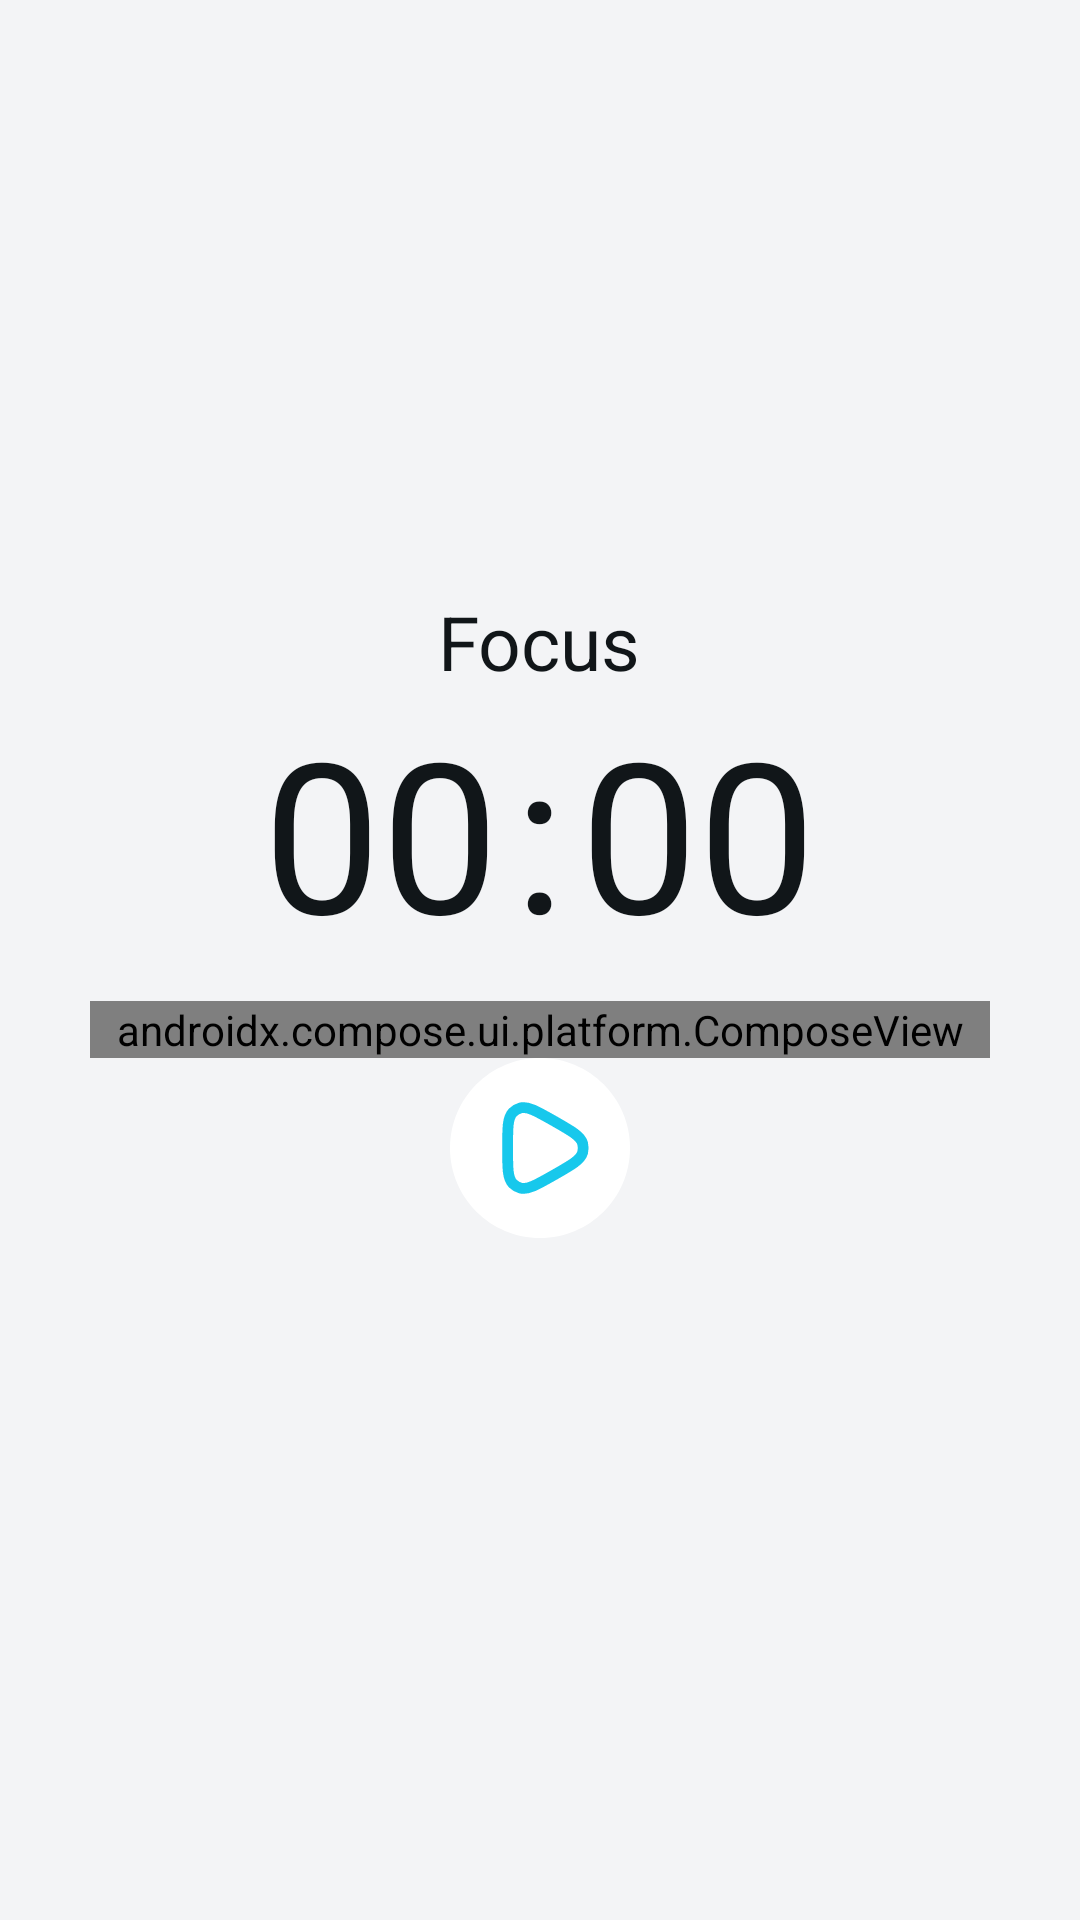

Screen size 1080 x 1920. Icon name, then its center in pixels as [x,y]:
play pause: [540,1148]
